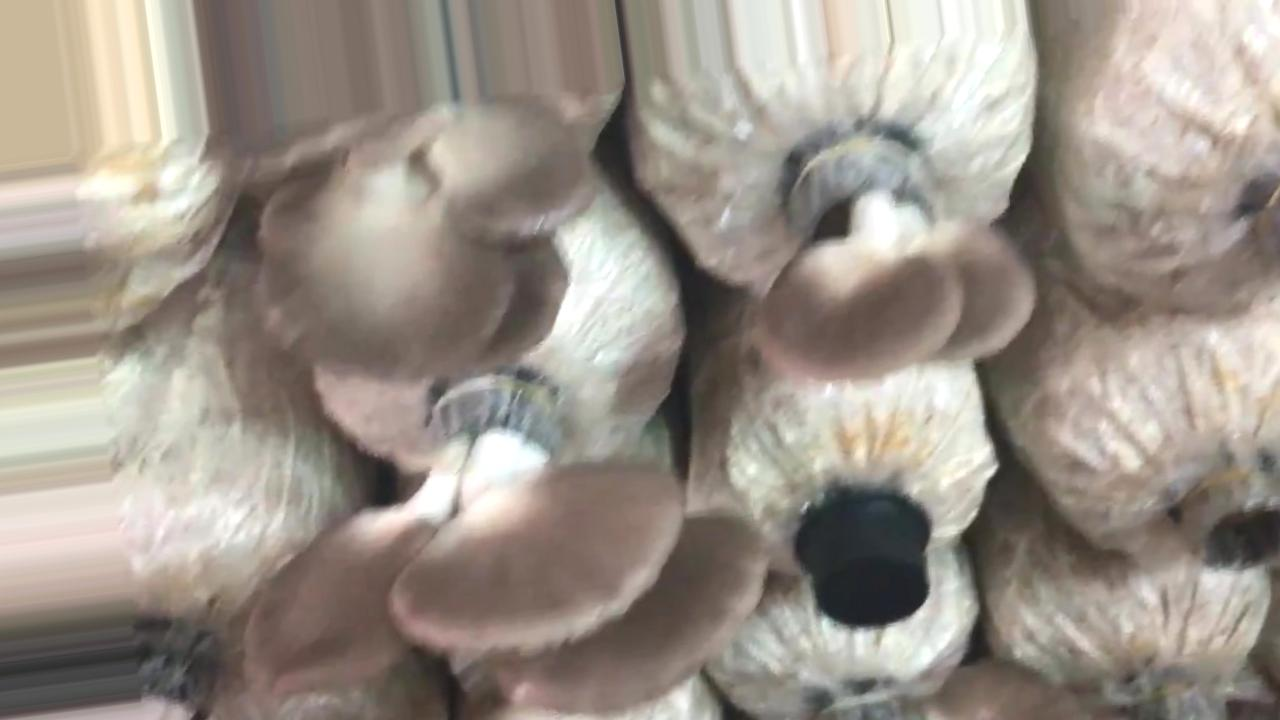nam: (250, 377, 767, 714), (259, 92, 598, 387), (766, 125, 1034, 374)
